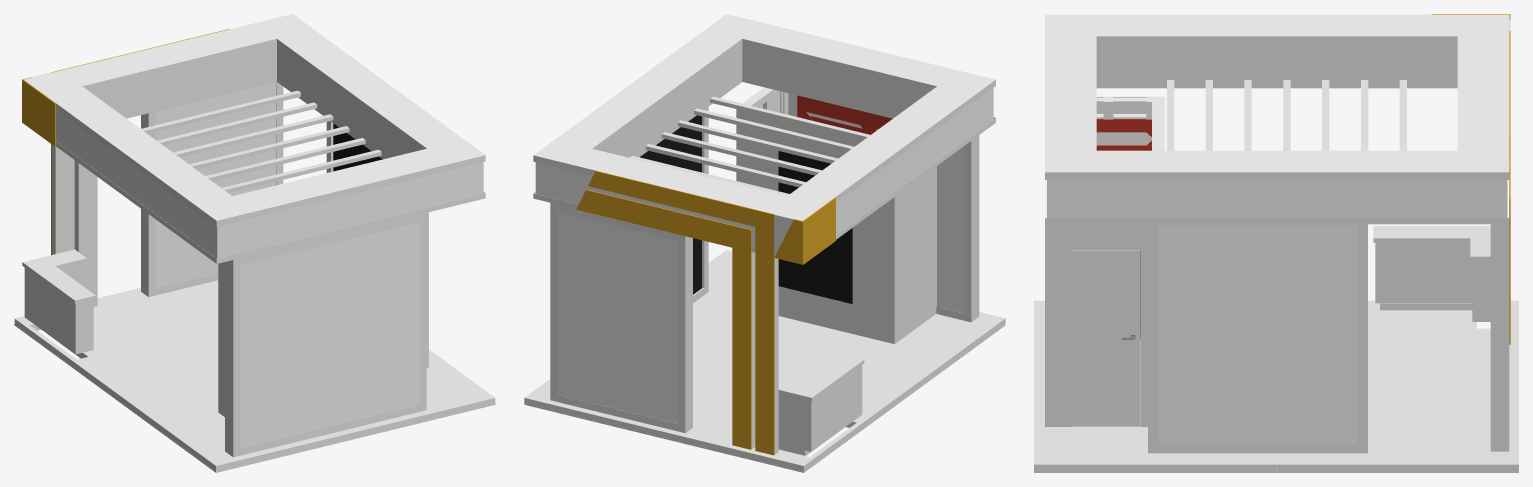
3 renders of one model, left to right at view 1: azimuth 30°, elevation 25°; view 2: azimuth 150°, elevation 25°; view 3: azimuth 270°, elevation 25°, orthographic. The views are drawn at different scales.
Visible parts, largest first — view 1: Баннер — цельное полотно 2750х2700х0,5 мм, Body1 (×16), Body4 (×3), Body3 (×2), Деталь 1 — Фриз — баннер четыре цельных полотна, Передняя сторона — 2792х590х3 мм, Деталь 3 — Фриз — баннер четыре цельных полотна, Корпус ресепшена — болванка, Body2 (×2), ДСП 16 — 2222 x 526 мм, ДСП 16 — 2222 x 526 мм (1), ДСП 16 — 2196 x 526 мм (+22 smaller); view 2: Body1 (×11), Body3 (×2), Body2 (×8), Задняя сторона — 2792х590х3 мм, Полистирол 3 — левая панель 1131х2700 мм, Полистирол 3 мм — бок 1069х2700 мм, Body4 (×3), Деталь 3 — Фриз — баннер четыре цельных полотна, Корпус ресепшена — болванка, Видимая область экрана, Баннер 491х2700х0,5 мм — правое крыло, Полистирол 3 — 2423 x 590 x 3 мм (1) (+25 smaller); view 3: Body1 (×5), Деталь 4 — Фриз — баннер четыре цельных полотна, Body2 (×3), Полистирол 3 — 2423 x 590 x 3 мм, Полистирол белый глянцевый 700х2000х3 мм — дверь, Body4 (×2), Полистирол глянцевый 1228х2700х3 мм — стена с дверью, Корпус ресепшена — болванка, Полистирол 3 — 1298 x 590 x 3 мм (1), ДСП 16 — 2196 x 526 мм, ДСП 16 — 2196 x 526 мм (1), Body3 (×3) (+11 smaller).
Part boxes in pixels (x1=…): Баннер — цельное полотно 2750х2700х0,5 мм: x1=240, y1=222, x2=419, y2=447; Body1 (×16): x1=141, y1=82, x2=381, y2=330; Body4 (×3): x1=14, y1=82, x2=283, y2=397; Body3 (×2): x1=95, y1=273, x2=355, y2=466; Деталь 1 — Фриз — баннер четыре цельных полотна: x1=217, y1=162, x2=483, y2=258; Передняя сторона — 2792х590х3 мм: x1=82, y1=38, x2=276, y2=118; Деталь 3 — Фриз — баннер четыре цельных полотна: x1=56, y1=110, x2=217, y2=258; Корпус ресепшена — болванка: x1=24, y1=262, x2=93, y2=354; Body2 (×2): x1=216, y1=349, x2=494, y2=471; ДСП 16 — 2222 x 526 мм: x1=196, y1=167, x2=371, y2=220; ДСП 16 — 2222 x 526 мм (1): x1=24, y1=42, x2=199, y2=94; ДСП 16 — 2196 x 526 мм: x1=339, y1=75, x2=463, y2=148; Body1 (×11): x1=524, y1=97, x2=870, y2=471; Body3 (×2): x1=550, y1=312, x2=1005, y2=432; Body2 (×8): x1=550, y1=95, x2=867, y2=369; Задняя сторона — 2792х590х3 мм: x1=742, y1=38, x2=936, y2=118; Полистирол 3 — левая панель 1131х2700 мм: x1=815, y1=128, x2=894, y2=343; Полистирол 3 мм — бок 1069х2700 мм: x1=894, y1=166, x2=936, y2=343; Body4 (×3): x1=550, y1=210, x2=904, y2=470; Деталь 3 — Фриз — баннер четыре цельных полотна: x1=836, y1=88, x2=993, y2=234; Корпус ресепшена — болванка: x1=778, y1=365, x2=862, y2=451; Видимая область экрана: x1=778, y1=151, x2=852, y2=303; Баннер 491х2700х0,5 мм — правое крыло: x1=937, y1=146, x2=963, y2=312; Полистирол 3 — 2423 x 590 x 3 мм (1): x1=644, y1=39, x2=742, y2=152; Body1 (×5): x1=1148, y1=80, x2=1518, y2=464; Деталь 4 — Фриз — баннер четыре цельных полотна: x1=1047, y1=180, x2=1507, y2=217; Body2 (×3): x1=1034, y1=224, x2=1509, y2=464; Полистирол 3 — 2423 x 590 x 3 мм: x1=1096, y1=36, x2=1331, y2=88; Полистирол белый глянцевый 700х2000х3 мм — дверь: x1=1072, y1=250, x2=1140, y2=426; Body4 (×2): x1=1357, y1=225, x2=1518, y2=444; Полистирол глянцевый 1228х2700х3 мм — стена с дверью: x1=1045, y1=224, x2=1147, y2=426; Корпус ресепшена — болванка: x1=1375, y1=242, x2=1490, y2=321; Полистирол 3 — 1298 x 590 x 3 мм (1): x1=1331, y1=36, x2=1457, y2=88; ДСП 16 — 2196 x 526 мм: x1=1096, y1=150, x2=1309, y2=172; ДСП 16 — 2196 x 526 мм (1): x1=1096, y1=14, x2=1309, y2=36; Body3 (×3): x1=1034, y1=300, x2=1518, y2=471.
Size of the model in its own units: 4 by 3.39 by 5.
